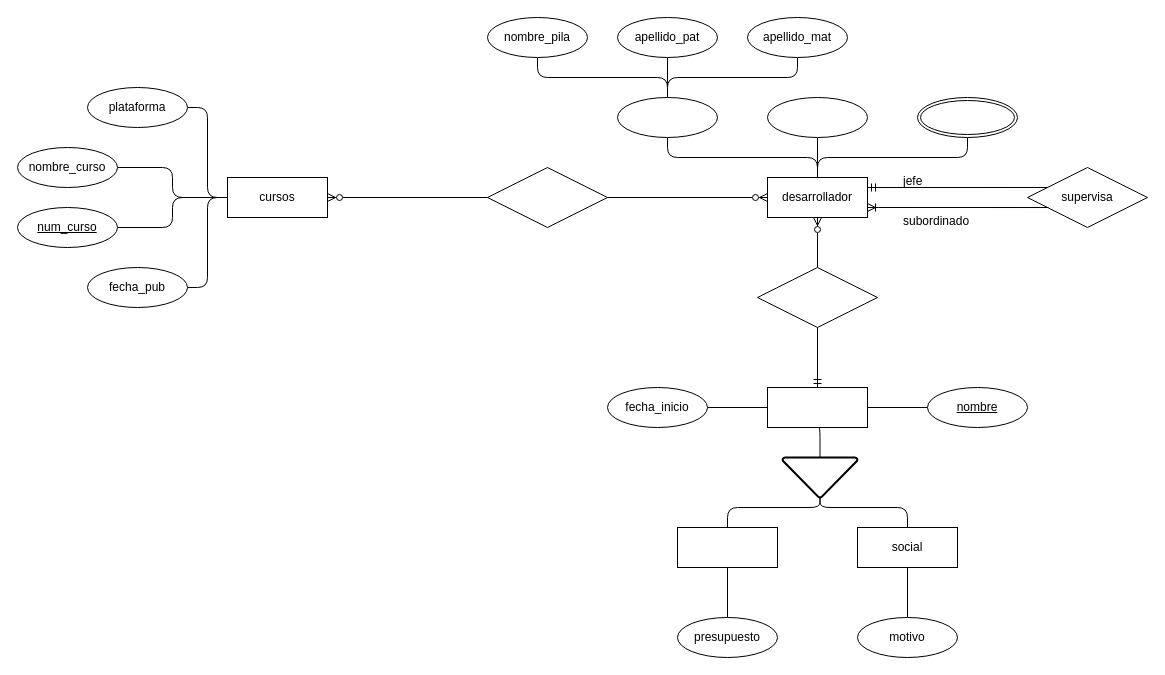
Some shapes in this 1165 by 675 pixel diagram are drawn without their labels. Here are the shapes that lost their labels. From the top down, the centre of each, then its label:
At (667,117): "nombre_completo".
At (817,117): "rfc".
At (967,117): "telefono".
At (547,197): "atiende".
At (817,297): "trabaja".
At (817,407): "proyecto".
At (727,547): "privado".
